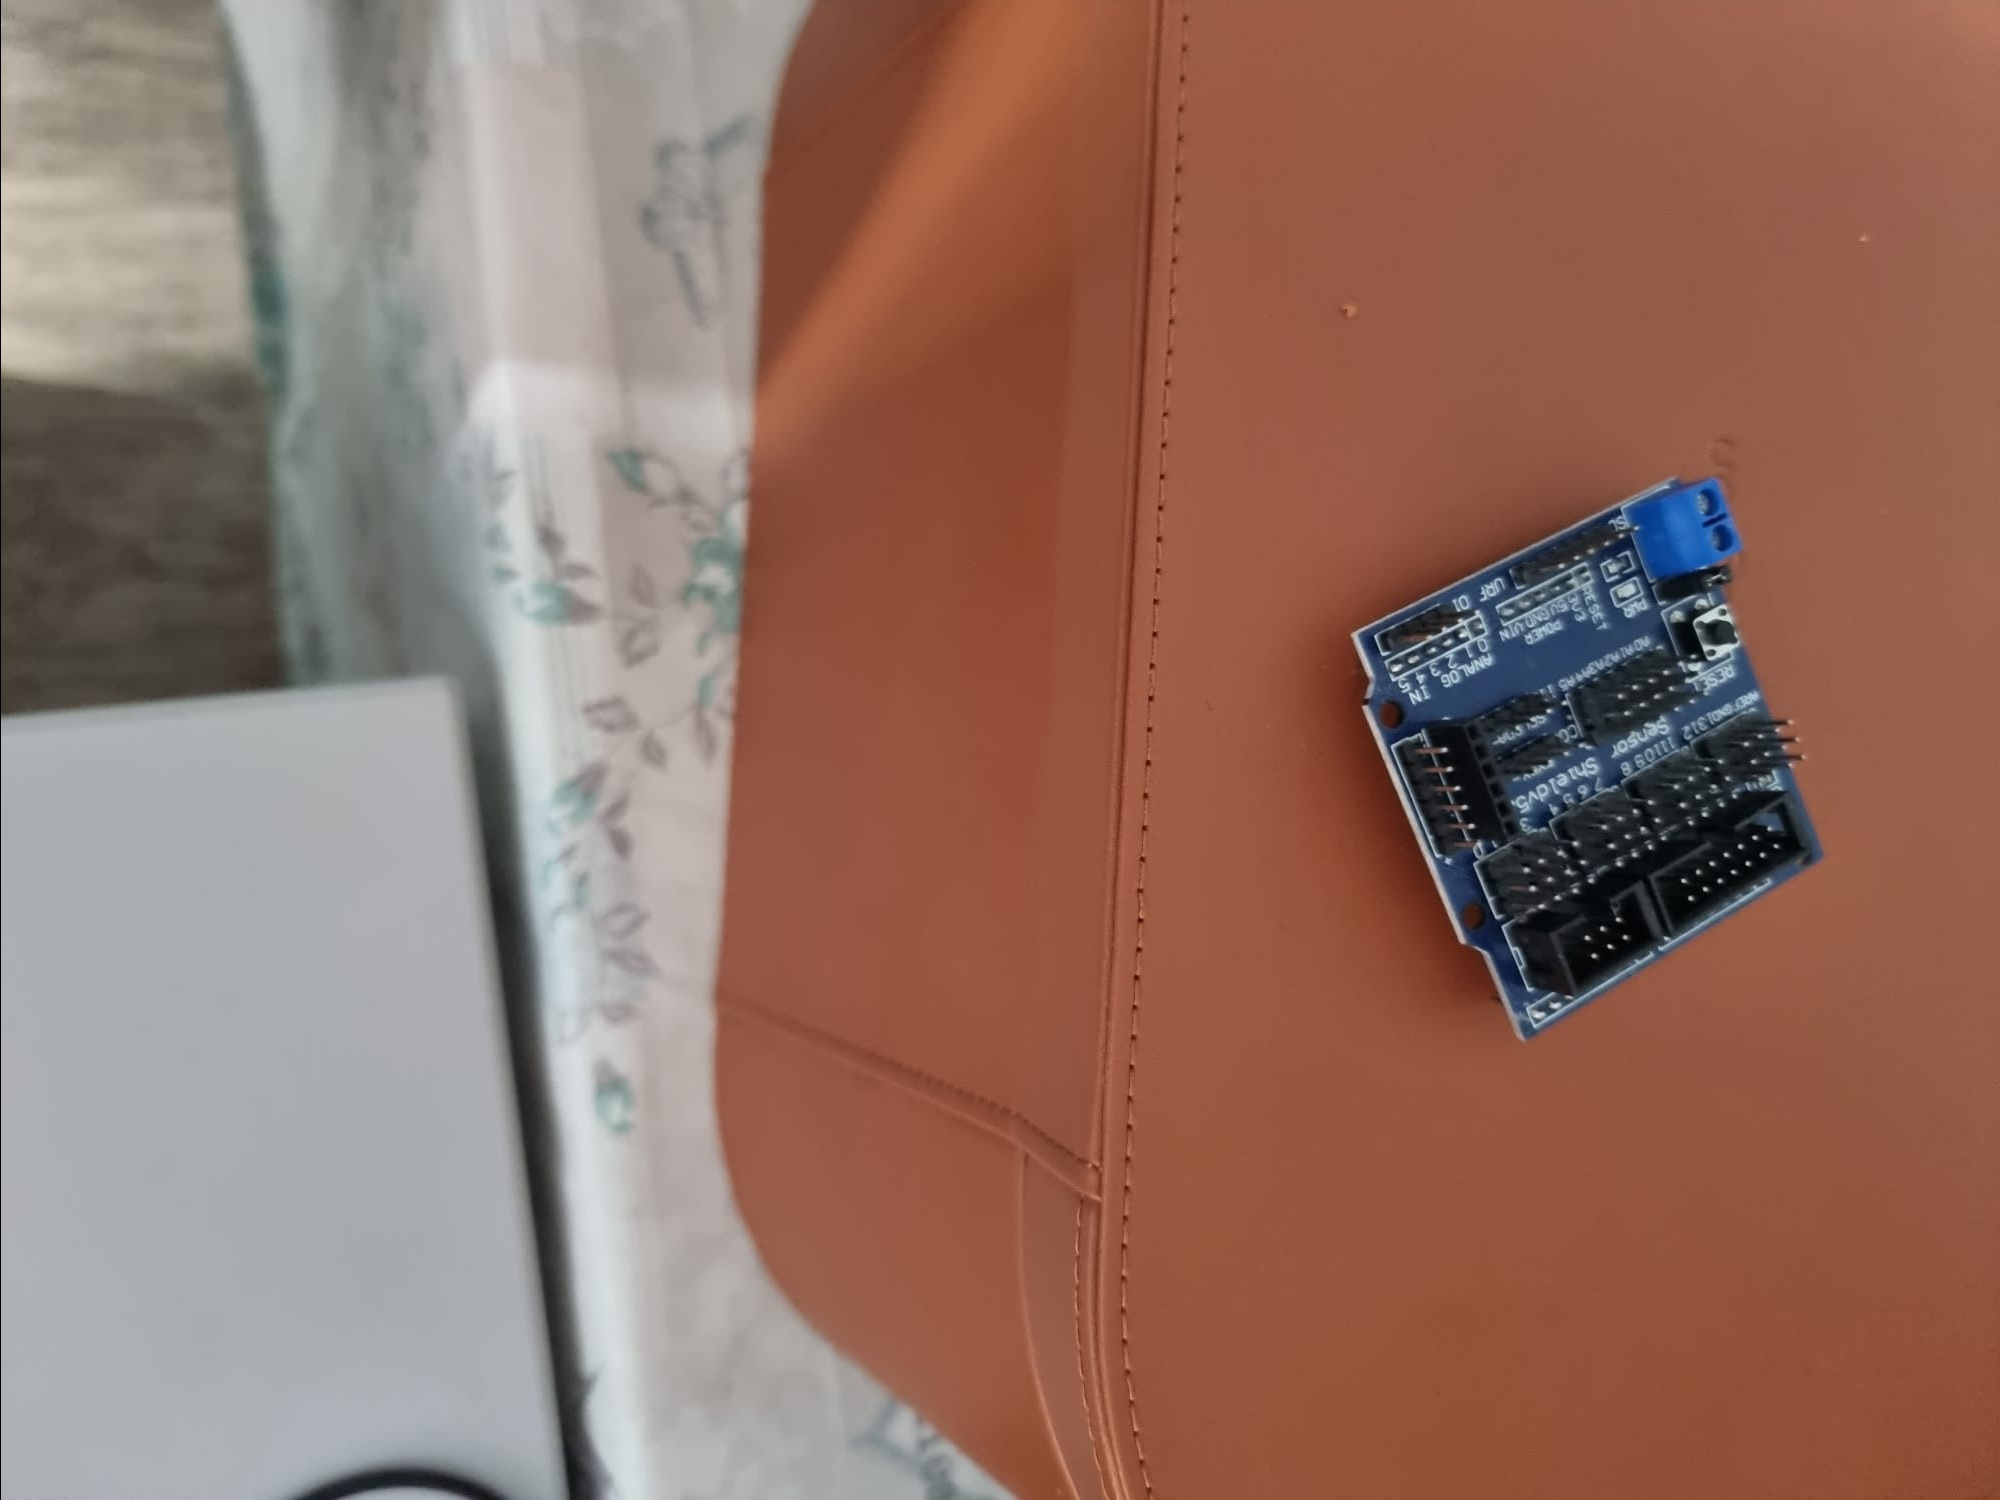5V EXPANSION: (1350, 476, 1841, 1059)
